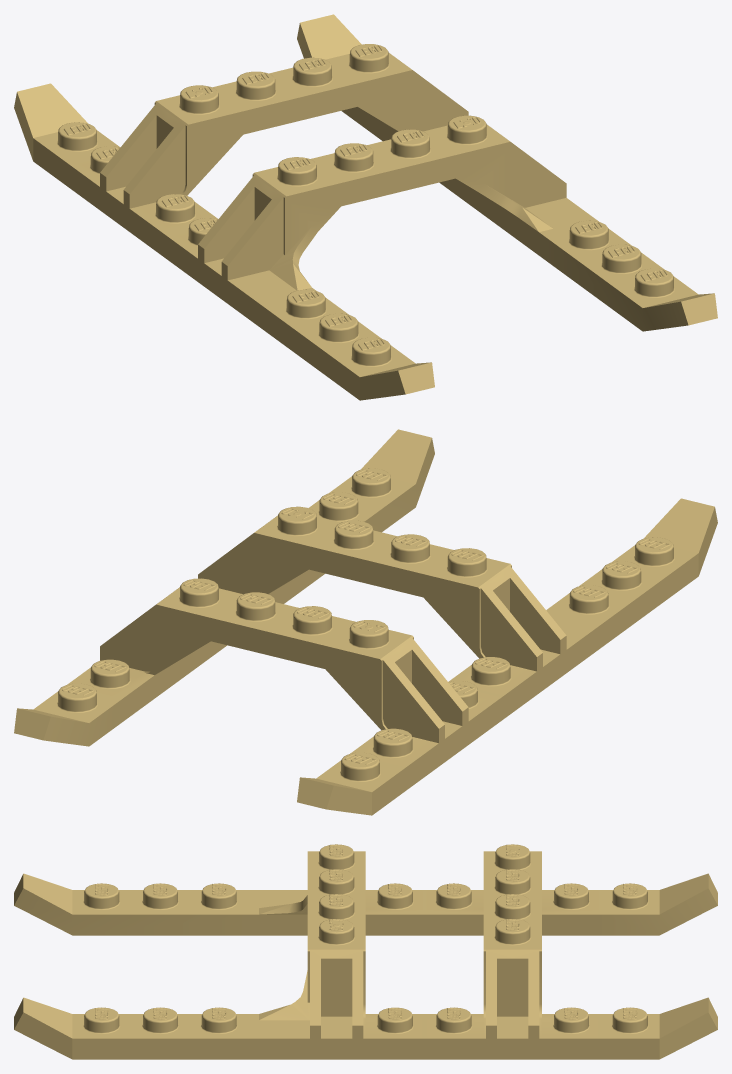
Rendered from Special_HelicopterLegs.fbx.
3 views of the same model, one above another, from view 1: azimuth 30°, elevation 25°; view 2: azimuth 150°, elevation 25°; view 3: azimuth 270°, elevation 25° (orthographic). The views are drawn at different scales.
Visible parts, largest first — view 1: Special_HelicopterLegs; view 2: Special_HelicopterLegs; view 3: Special_HelicopterLegs.
Boxes of the visible parts, left/top/right/bottom form: Special_HelicopterLegs: left=14, top=14, right=717, bottom=400; Special_HelicopterLegs: left=14, top=429, right=717, bottom=815; Special_HelicopterLegs: left=14, top=844, right=717, bottom=1059.
Size of the model in its own units: 95.92 by 47.92 by 14.7.
